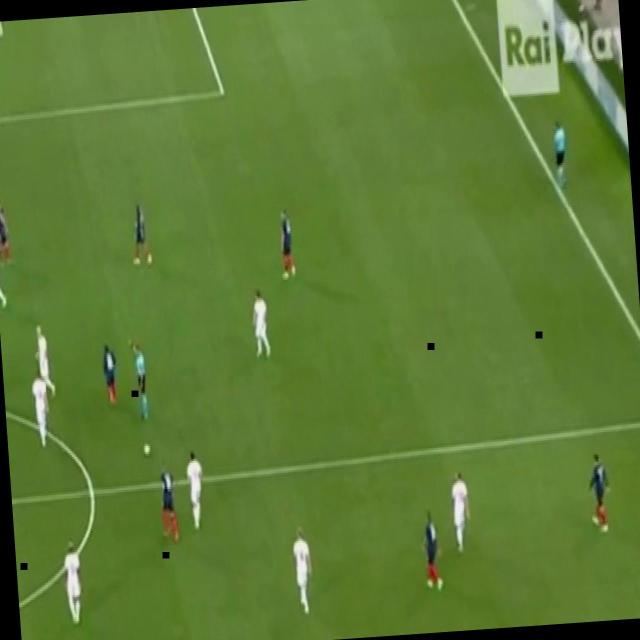ball: (141, 439, 152, 458)
player-white: (582, 450, 616, 538), (287, 522, 317, 620), (57, 536, 87, 628), (416, 506, 446, 598), (154, 458, 182, 554), (125, 329, 151, 429), (31, 319, 59, 407), (181, 446, 209, 534), (447, 465, 474, 555), (26, 365, 52, 453), (247, 282, 275, 363), (126, 196, 156, 270), (548, 116, 572, 198), (274, 203, 298, 283), (99, 339, 122, 415), (0, 194, 13, 274), (0, 232, 10, 314)
